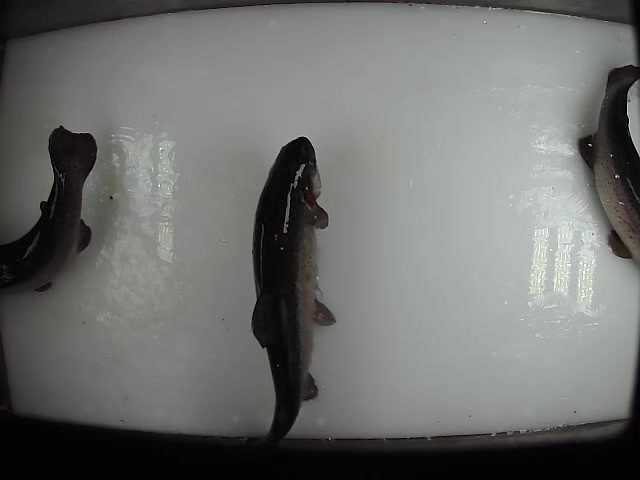fish: (248, 134, 338, 471), (1, 123, 100, 301), (575, 62, 640, 273)
